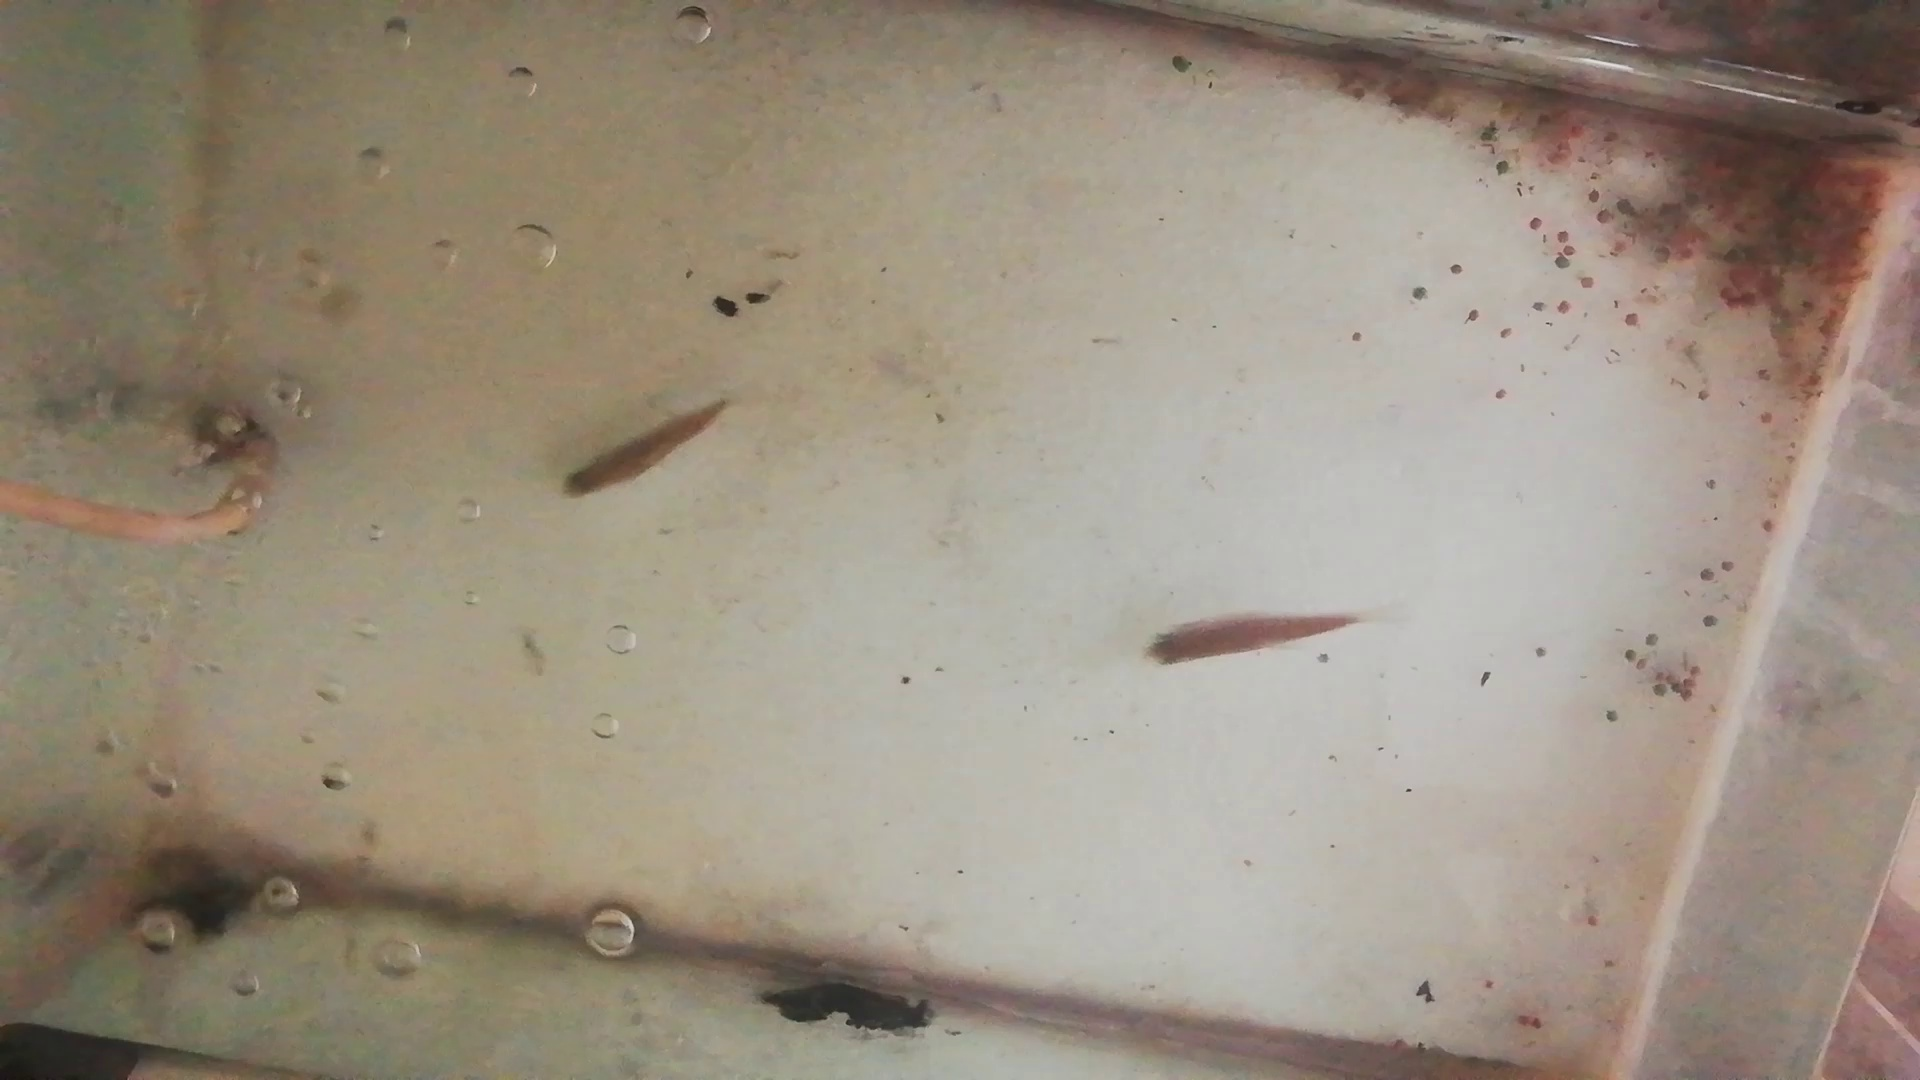fish: (558, 400, 728, 497), (1137, 607, 1361, 665)
